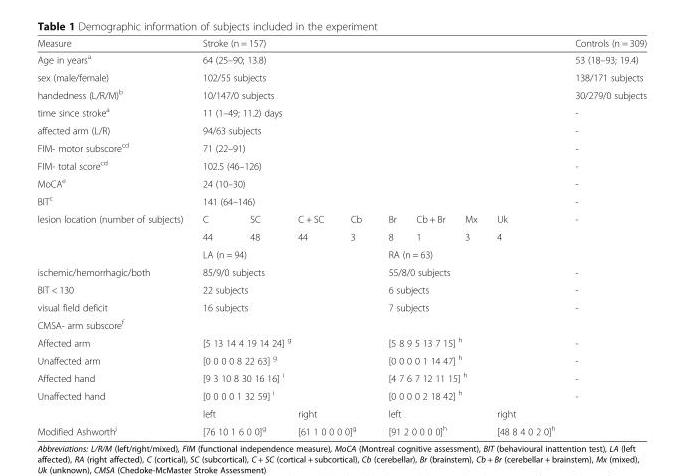table: (36, 37, 646, 436)
table column: (36, 37, 192, 436), (564, 37, 646, 436), (486, 37, 564, 436), (281, 37, 336, 436), (230, 37, 281, 436), (405, 37, 454, 436), (192, 37, 230, 436), (336, 37, 374, 436), (454, 37, 486, 436), (374, 37, 405, 436)
table column header: (36, 37, 646, 50)
table projected row header: (36, 315, 646, 332)
table row: (36, 102, 646, 121), (36, 50, 646, 68), (36, 155, 646, 173), (36, 173, 646, 191), (36, 191, 646, 209), (36, 209, 646, 227), (36, 227, 646, 245), (36, 262, 646, 280), (36, 280, 646, 298), (36, 332, 646, 350), (36, 350, 646, 368), (36, 368, 646, 386), (36, 386, 646, 404), (36, 68, 646, 85), (36, 85, 646, 102), (36, 121, 646, 138), (36, 138, 646, 155), (36, 245, 646, 262), (36, 298, 646, 315), (36, 315, 646, 332), (36, 404, 646, 421), (36, 421, 646, 436), (36, 37, 646, 50)
table spanning cell: (36, 209, 192, 262), (192, 102, 564, 121), (192, 50, 564, 68), (192, 155, 564, 173), (192, 173, 564, 191), (192, 191, 564, 209), (192, 68, 564, 85), (192, 85, 564, 102), (192, 121, 564, 138), (192, 138, 564, 155), (36, 386, 192, 421), (192, 37, 564, 50), (374, 262, 564, 280), (374, 280, 564, 298), (374, 332, 564, 350), (374, 350, 564, 368), (374, 368, 564, 386), (374, 386, 564, 404), (192, 262, 374, 280), (192, 280, 374, 298), (192, 332, 374, 350), (192, 350, 374, 368), (192, 368, 374, 386), (192, 386, 374, 404), (374, 245, 564, 262), (374, 298, 564, 315), (192, 245, 374, 262), (192, 298, 374, 315), (564, 209, 646, 245), (374, 404, 486, 421), (374, 421, 486, 436), (281, 404, 374, 421), (192, 404, 281, 421), (281, 421, 374, 436), (192, 421, 281, 436)
